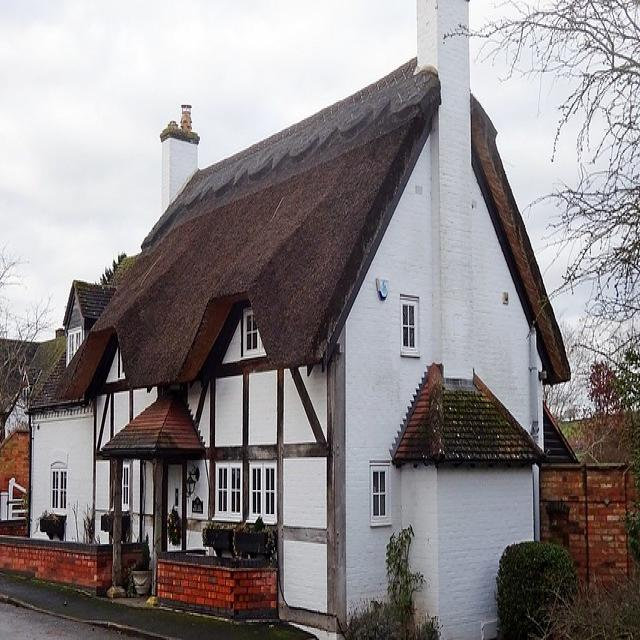building: (25, 49, 578, 640)
